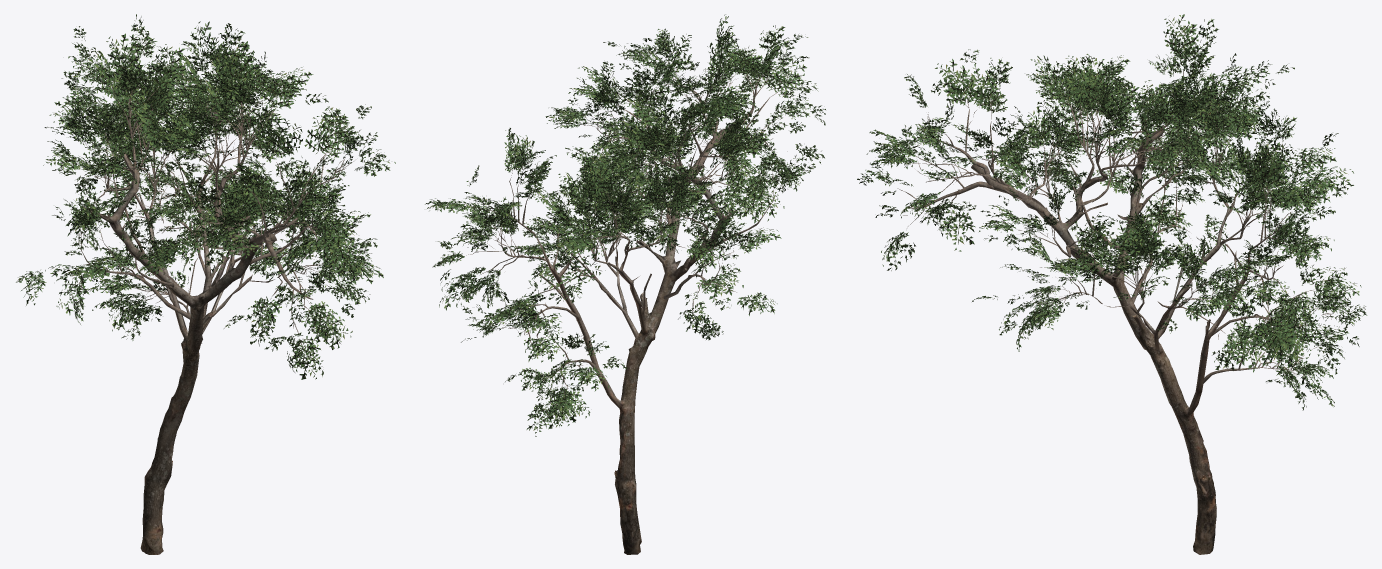
Rendered from tree.glb.
3 renders of one model, left to right at view 1: azimuth 30°, elevation 25°; view 2: azimuth 150°, elevation 25°; view 3: azimuth 270°, elevation 25°, orthographic. The views are drawn at different scales.
Visible parts, largest first — view 1: tree_small_02_LOD0; view 2: tree_small_02_LOD0; view 3: tree_small_02_LOD0.
Boxes of the visible parts, x1=… form: tree_small_02_LOD0: x1=16, y1=14, x2=395, y2=554; tree_small_02_LOD0: x1=425, y1=14, x2=825, y2=554; tree_small_02_LOD0: x1=857, y1=14, x2=1367, y2=554.
Size of the model in its own units: 2.91 by 4.55 by 4.24.
3 materials, 3 textured.
